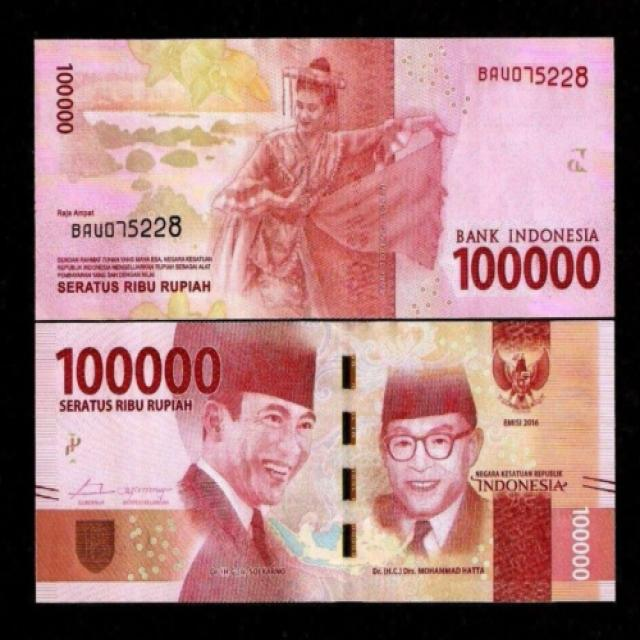seratus ribu rupiah: (34, 36, 617, 319), (34, 323, 616, 604)
